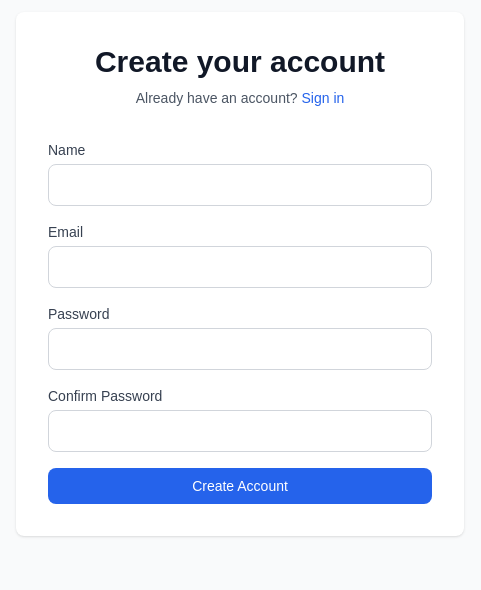
Scenario: Authentication › Register › should show validation errors for empty fields
Step 1. Click the submit button → (240, 486), box x1=48 y1=468 x2=432 y2=504
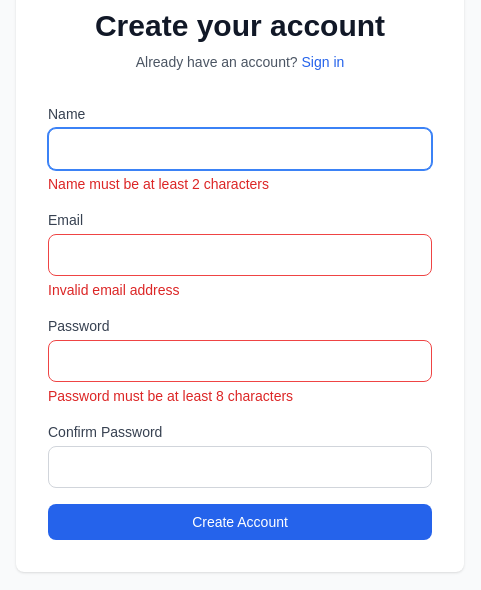
Now the text "Name must be at least 2 characters" is shown, box x1=48 y1=176 x2=269 y2=192
